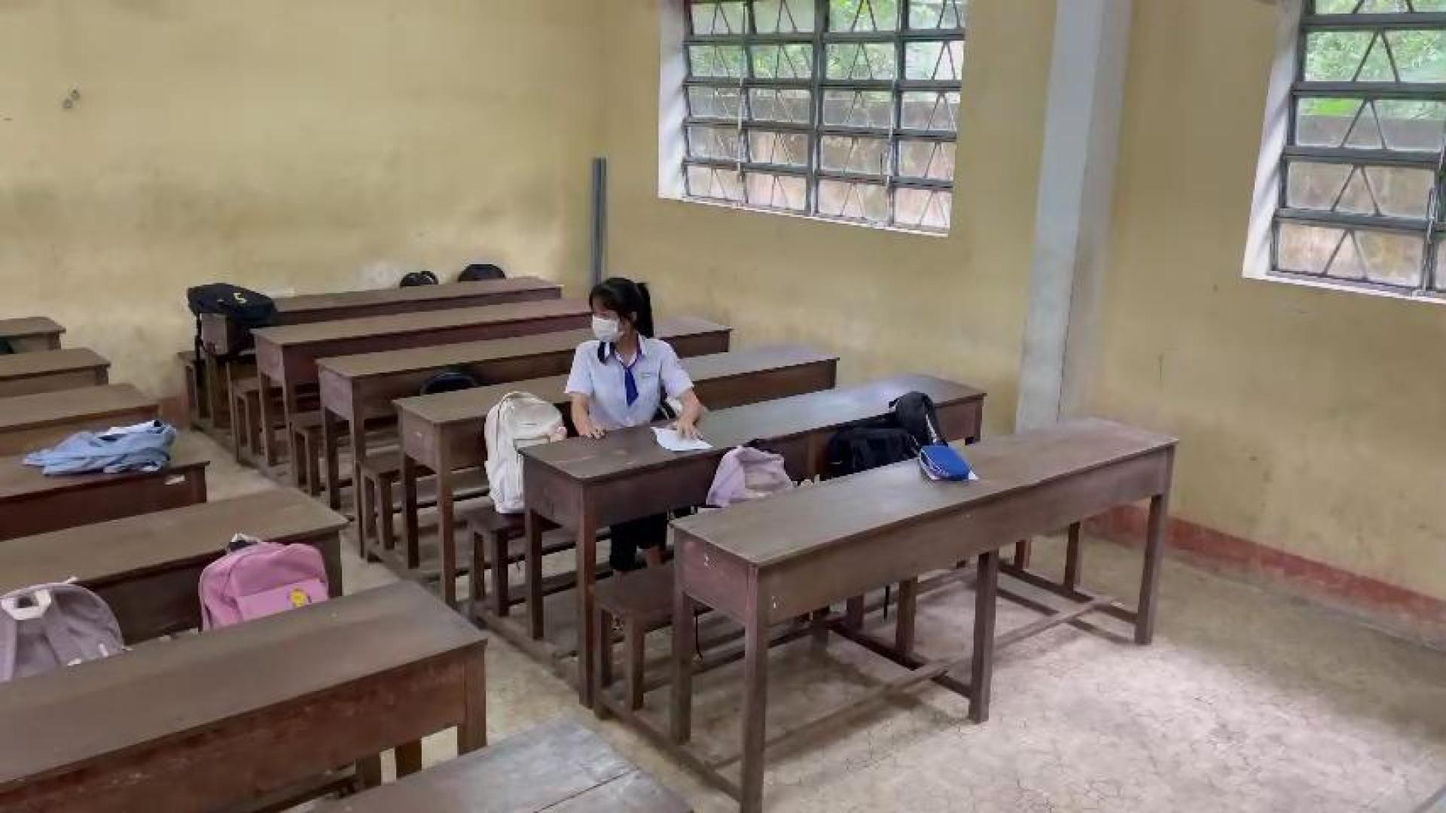Look Around: (567, 269, 662, 356)
